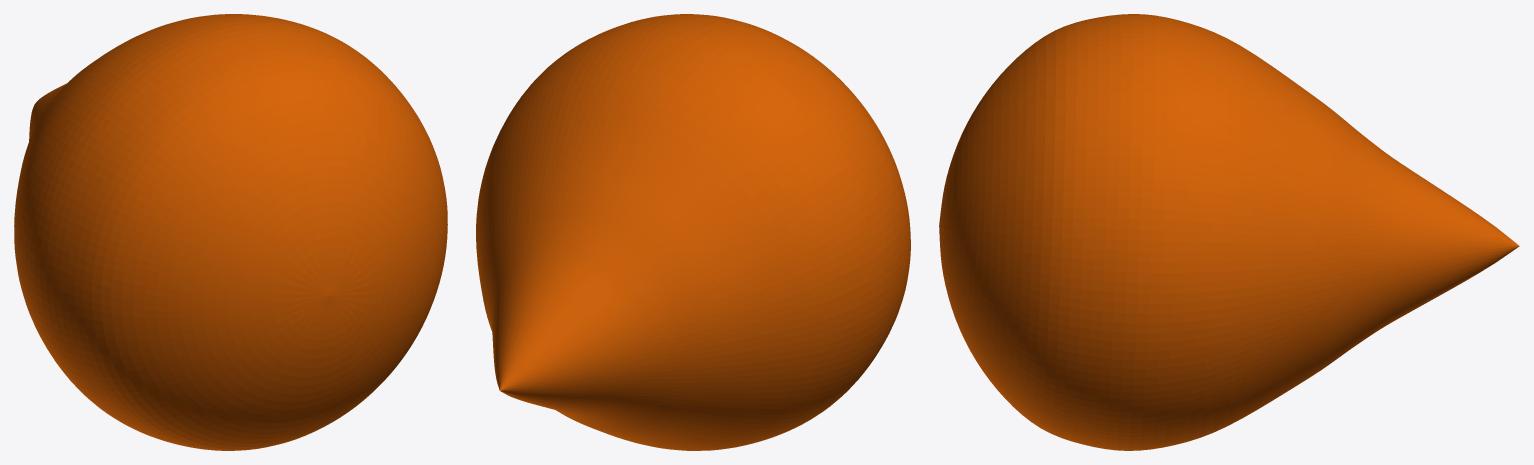
Rendered from fireball.fbx.
The picture shows the model from 3 angles, left to right: view 1: azimuth 30°, elevation 25°; view 2: azimuth 150°, elevation 25°; view 3: azimuth 270°, elevation 25°; orthographic projection.
Visible parts, largest first — view 1: Fireball; view 2: Fireball; view 3: Fireball.
Boxes of the visible parts, x1,y1,x2,y2 form: Fireball: [14, 14, 447, 450]; Fireball: [476, 14, 910, 450]; Fireball: [939, 14, 1519, 450].
Size of the model in its own units: 179 by 179 by 238.
